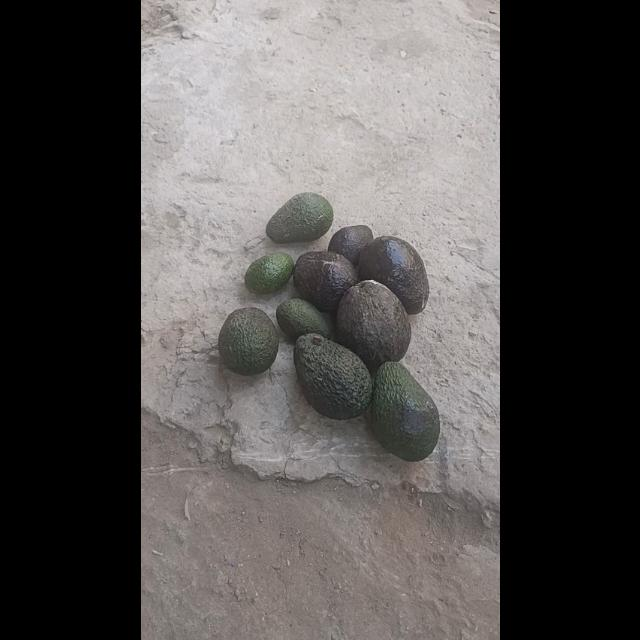Primera: (368, 360, 439, 460), (336, 280, 410, 372), (293, 332, 371, 418), (357, 235, 428, 313), (292, 250, 358, 312)
Segunda: (217, 306, 277, 376), (265, 191, 333, 243)
Tercera: (275, 298, 331, 342), (243, 252, 293, 294), (326, 225, 374, 267)
